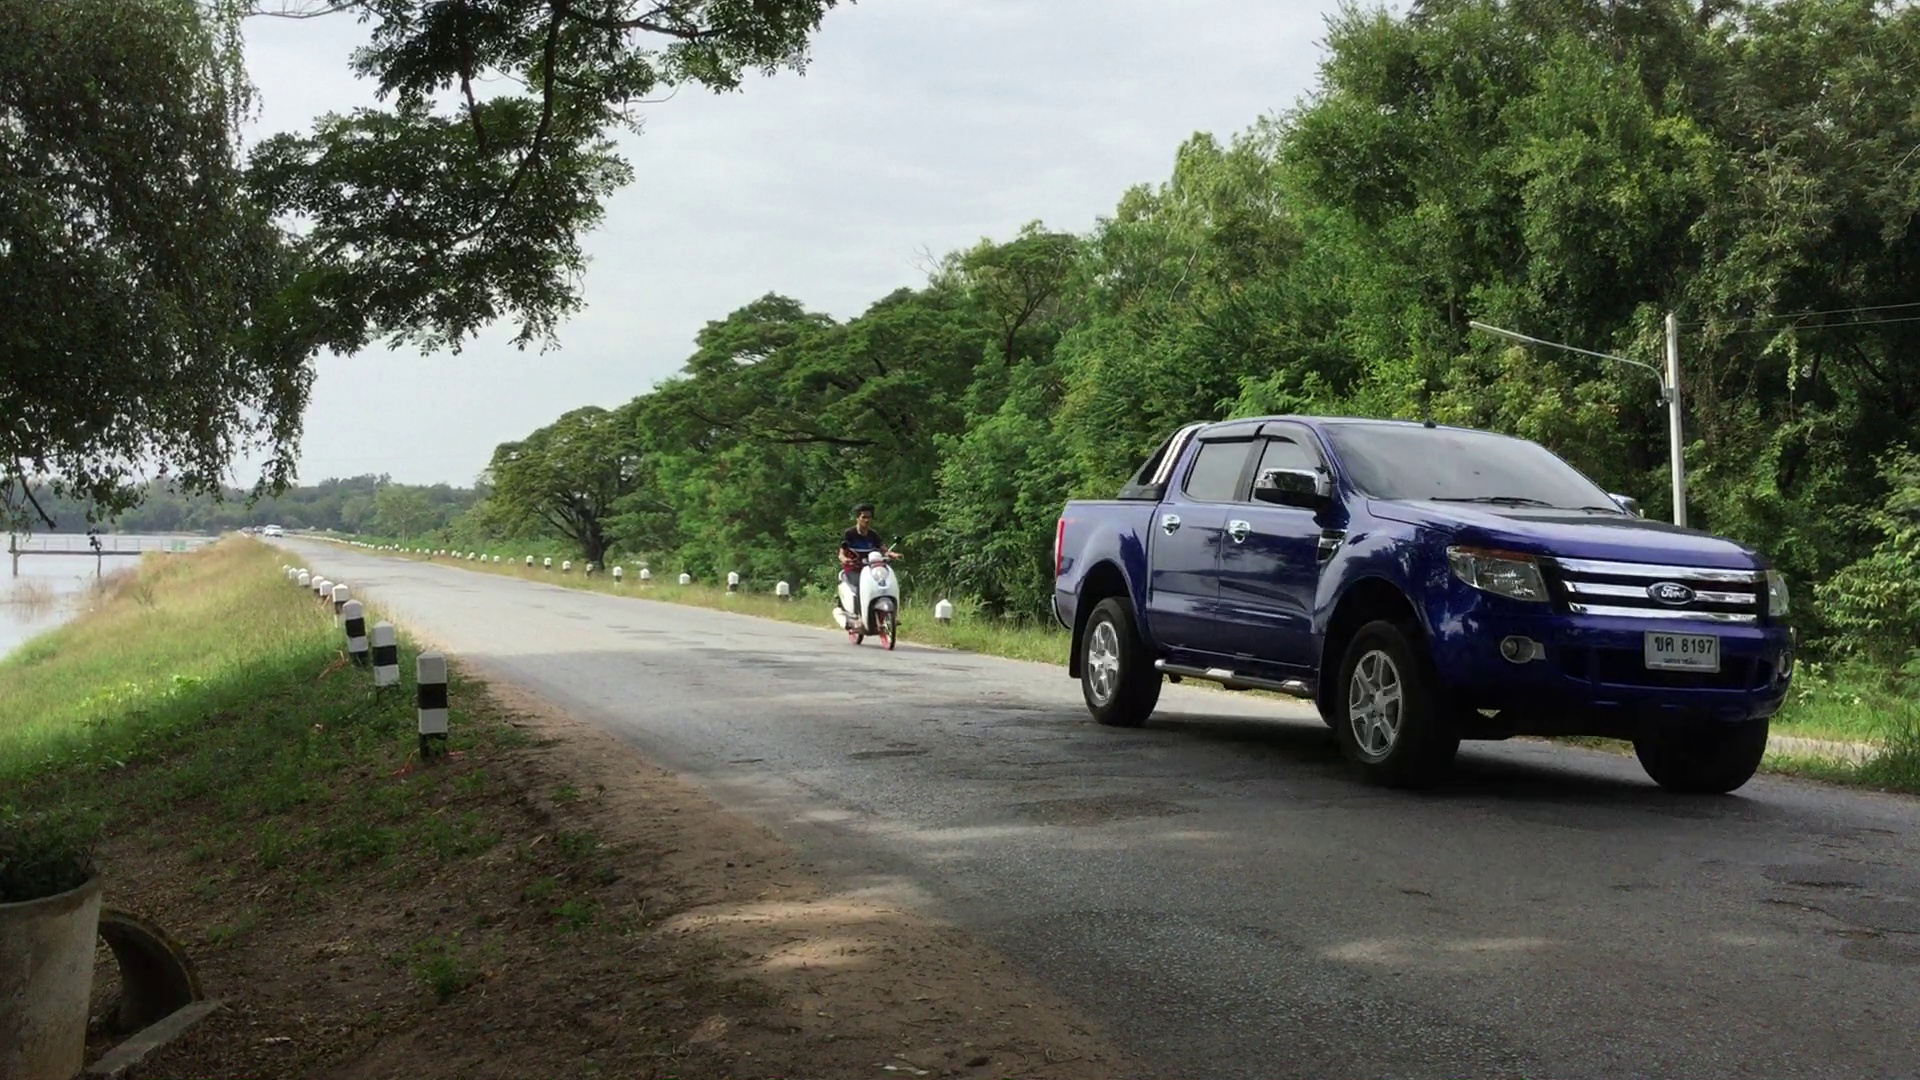car: (1064, 426, 1803, 789)
person: (834, 504, 903, 649)
